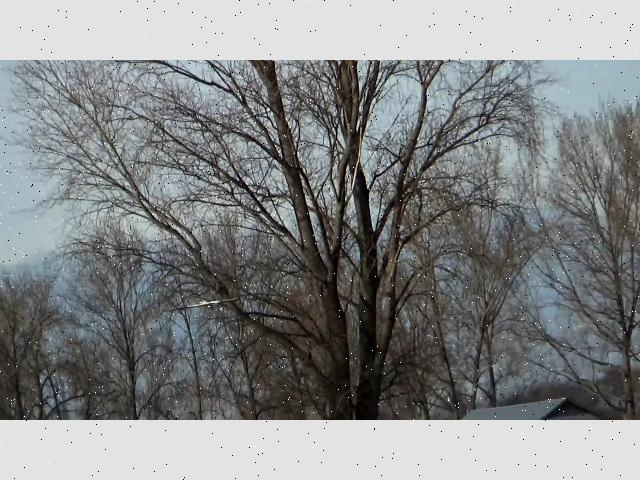Anti-Drone: (176, 298, 238, 311)
